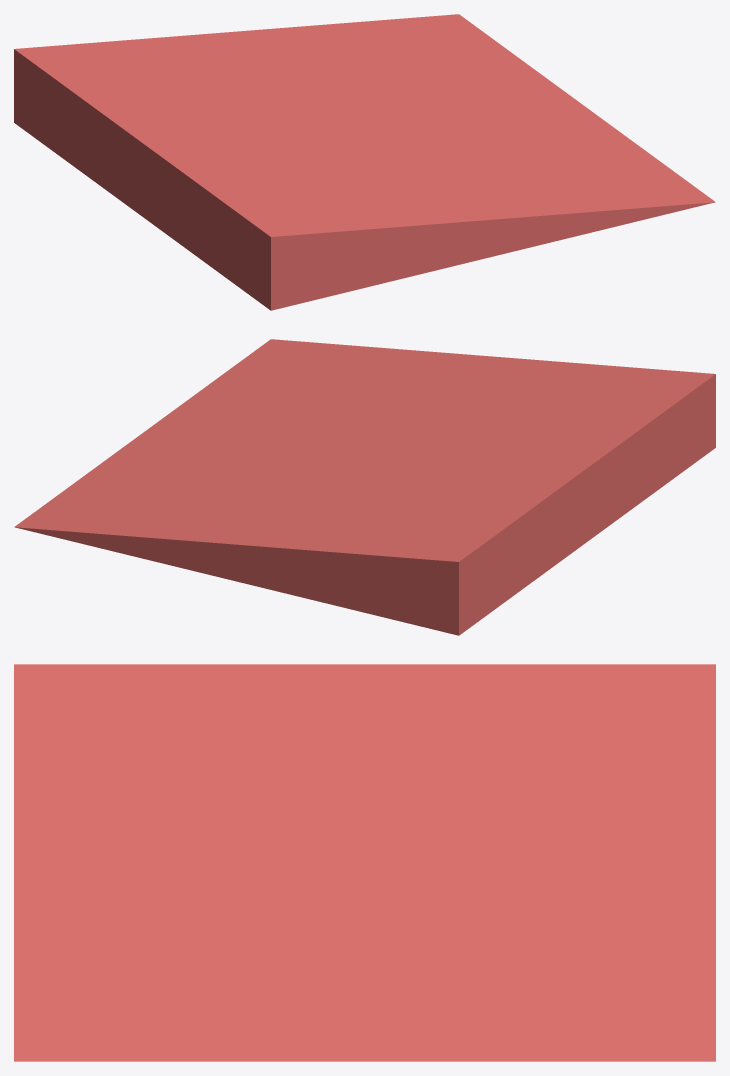
File: ramp.dae
3 renders of one model, top to bottom at view 1: azimuth 30°, elevation 25°; view 2: azimuth 150°, elevation 25°; view 3: azimuth 270°, elevation 25°, orthographic. The views are drawn at different scales.
Visible parts, largest first — view 1: Cube; view 2: Cube; view 3: Cube.
Boxes of the visible parts, x1,y1,x2,y2 form: Cube: (14,14,715,310); Cube: (14,339,715,635); Cube: (14,664,715,1061).
Bounding box in the file's own units: 4 × 4 × 0.6335.
